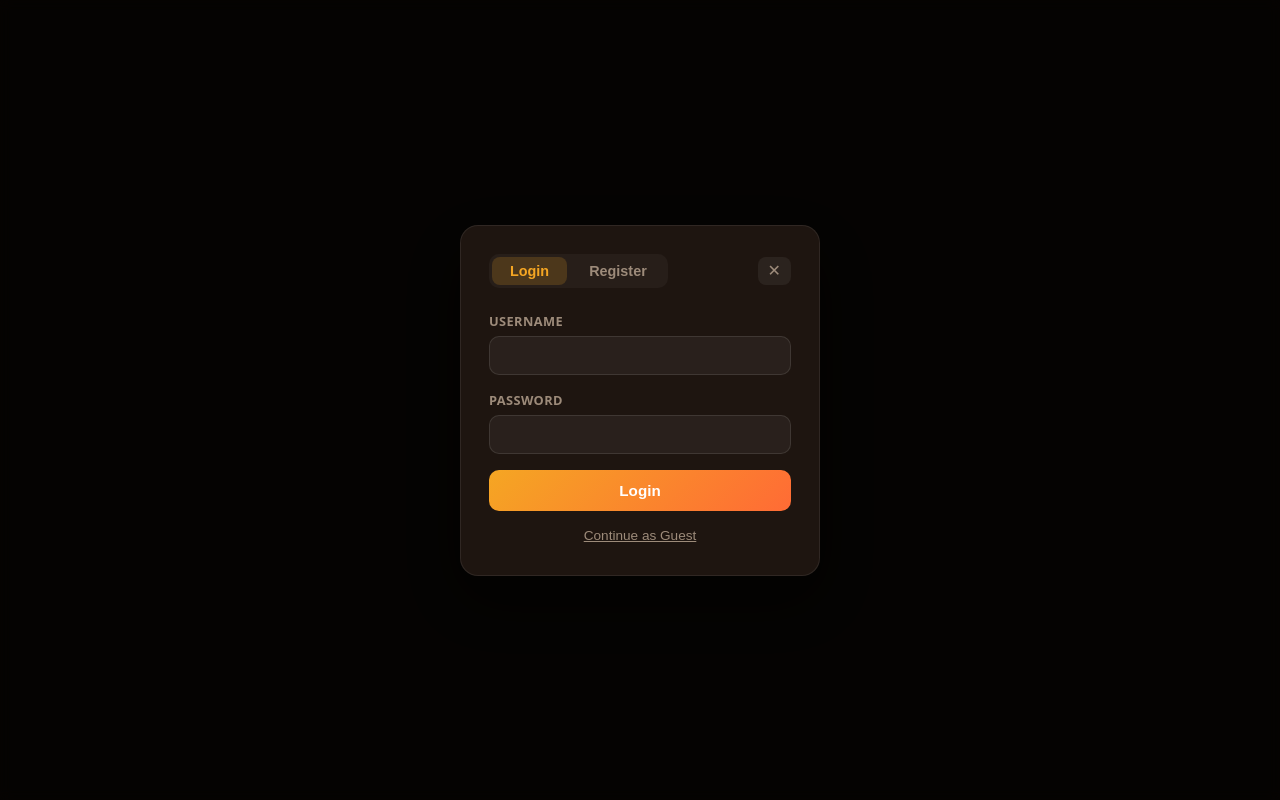
it: AuthModal › shows error on failed registration
Click the tab "Register" at (618, 270), box left=571, top=256, right=665, bottom=284
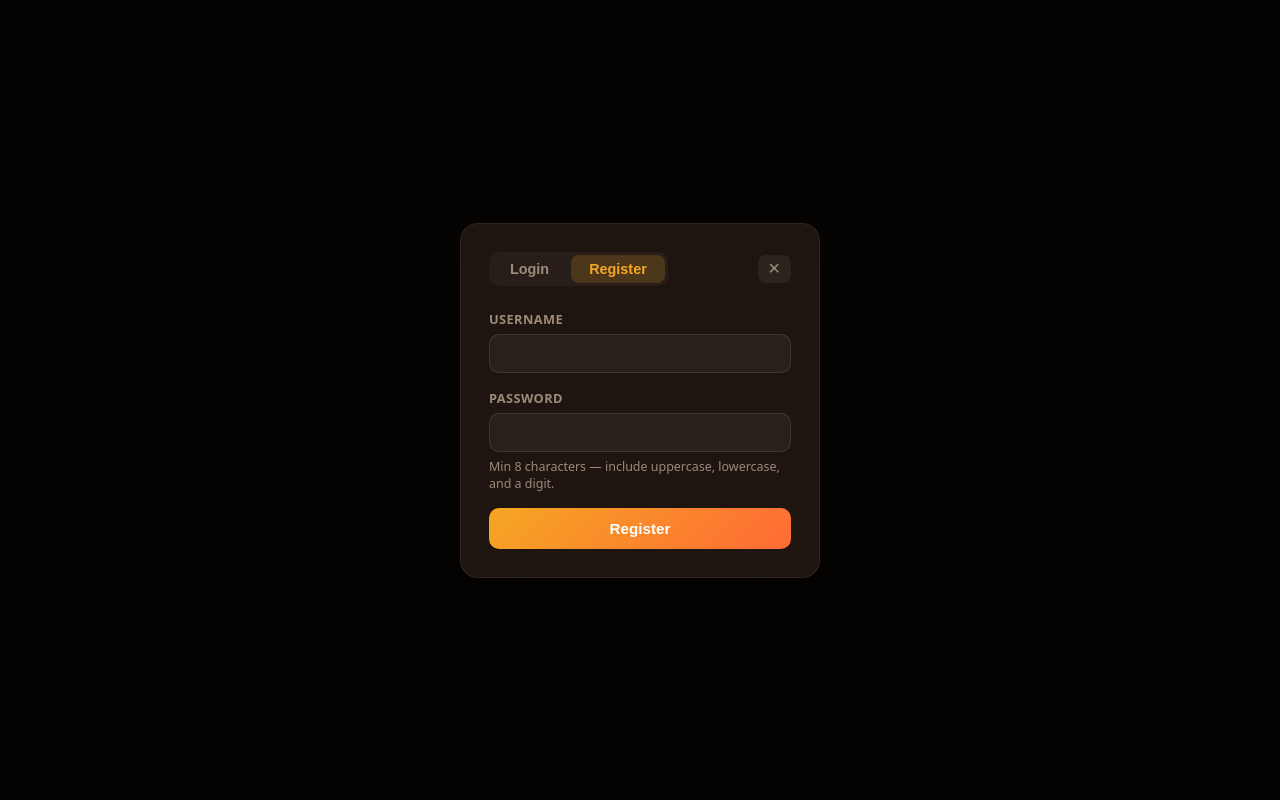
Type "takenuser" into the field labelled "Username" at (640, 353), box left=489, top=334, right=791, bottom=372
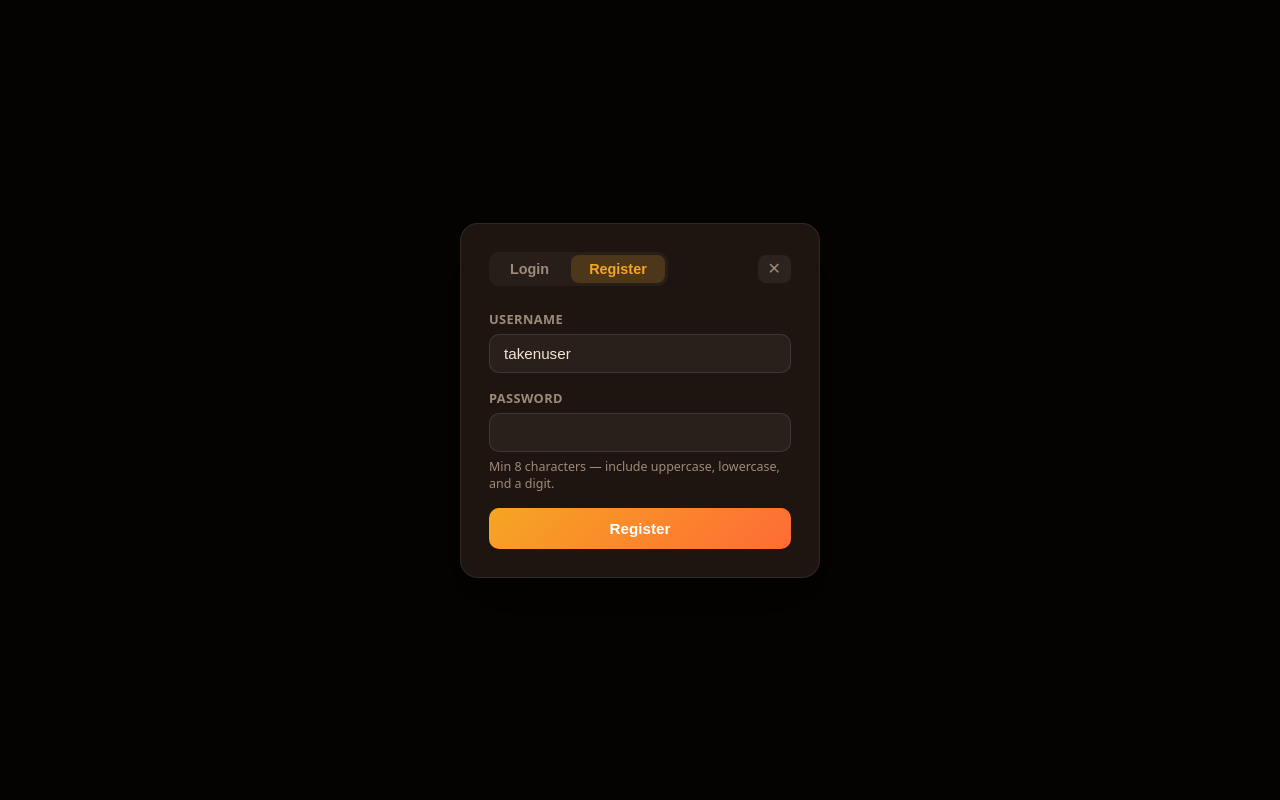
Type "password123" into the password field labelled "Password" at (640, 432), box left=489, top=412, right=791, bottom=452
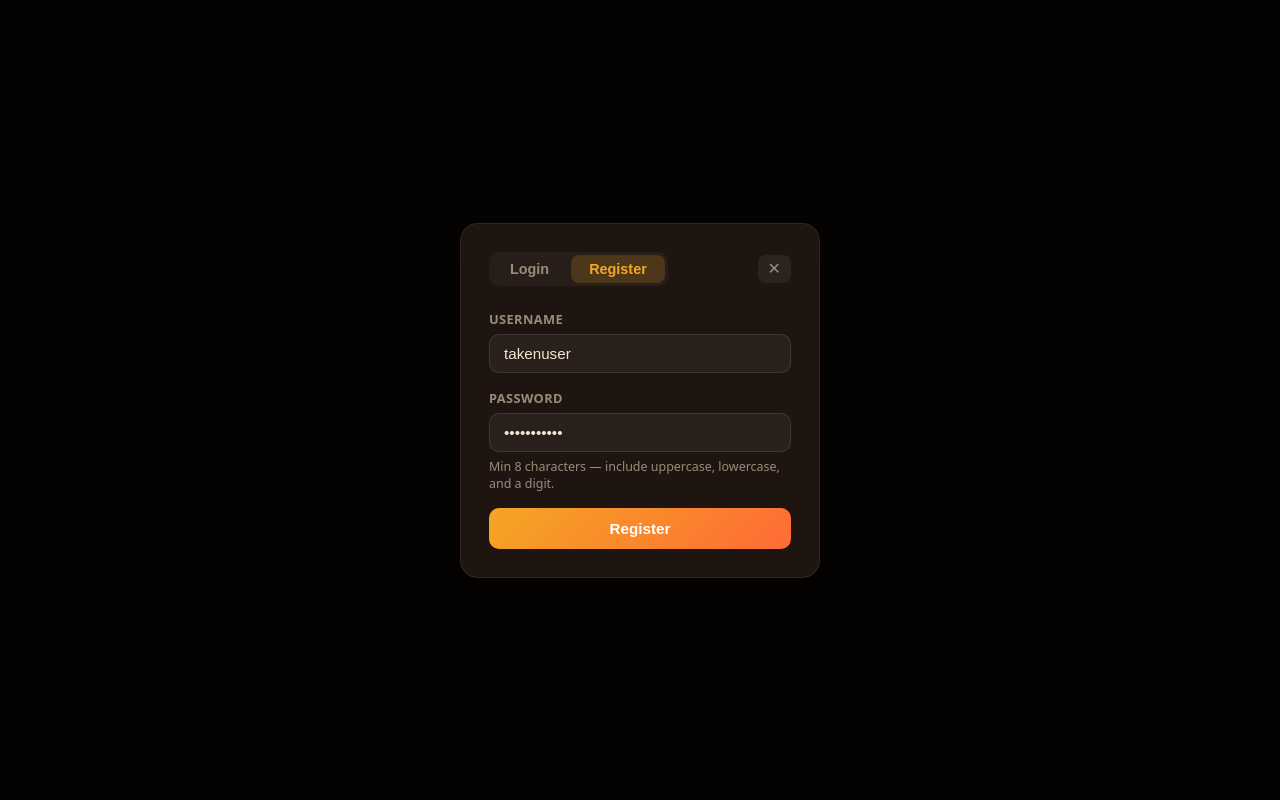
Click the button "Register" at (640, 528), box left=489, top=508, right=791, bottom=548
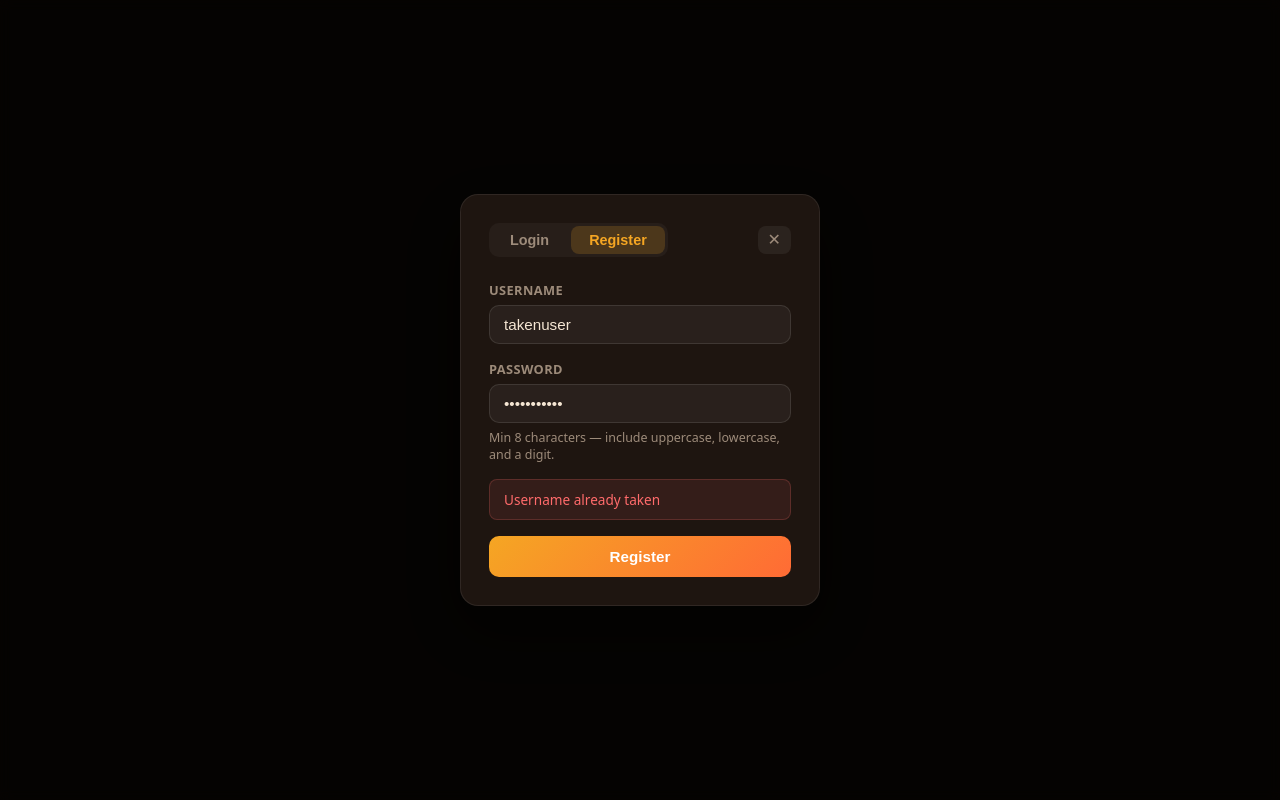
Result: the message reads "Username already taken" at left=504, top=490, right=660, bottom=509
